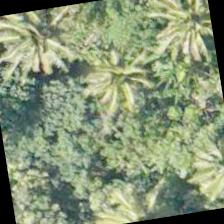Kelapa_Sawit: (49, 35, 152, 138), (0, 3, 92, 84), (139, 0, 218, 74)
